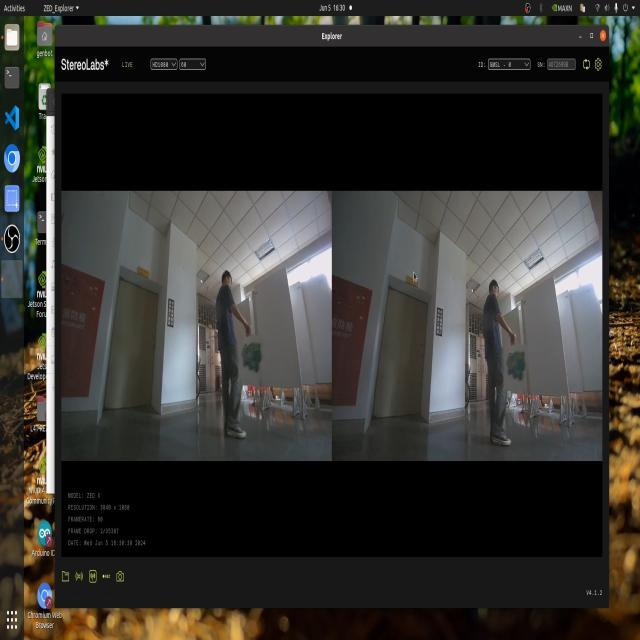green: (238, 335, 274, 378), (506, 349, 528, 390)
